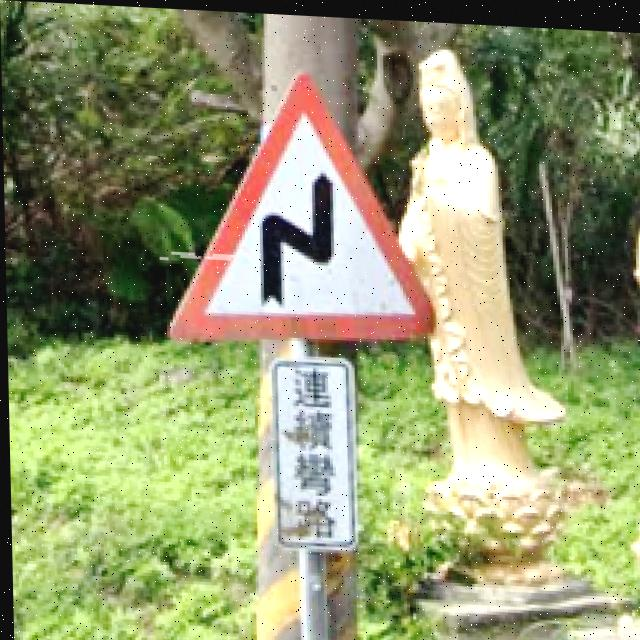doublebendright: (171, 71, 435, 342)
